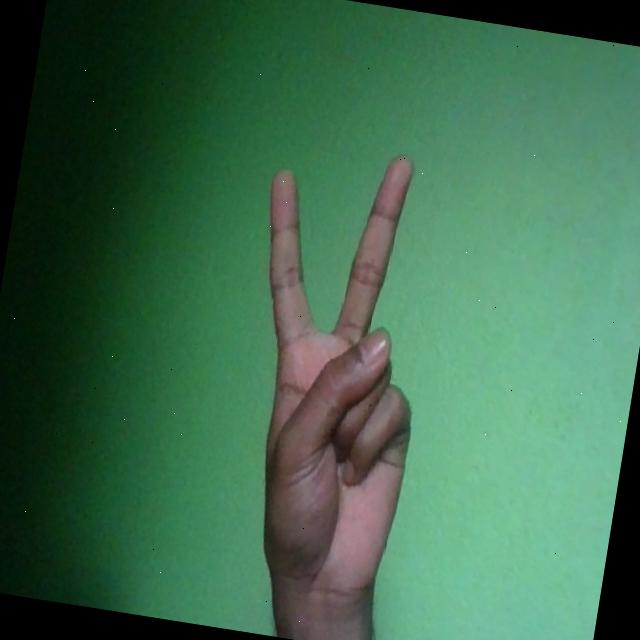Fist: (208, 136, 452, 614)
